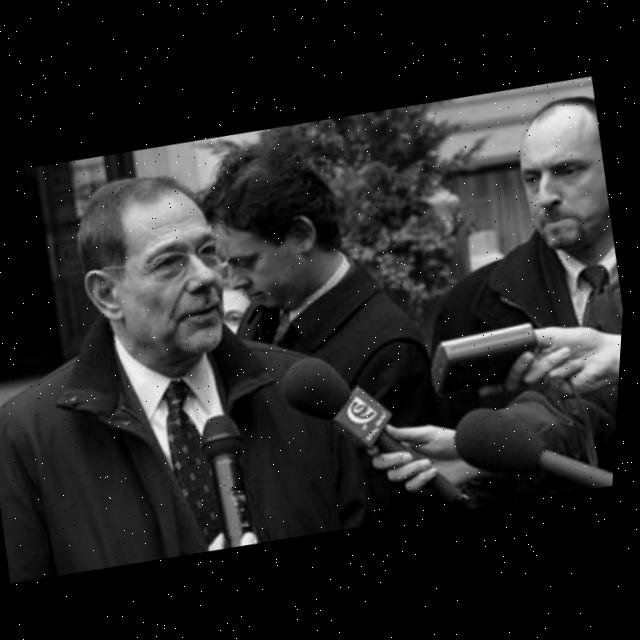face: (85, 177, 234, 375), (501, 89, 615, 267)
